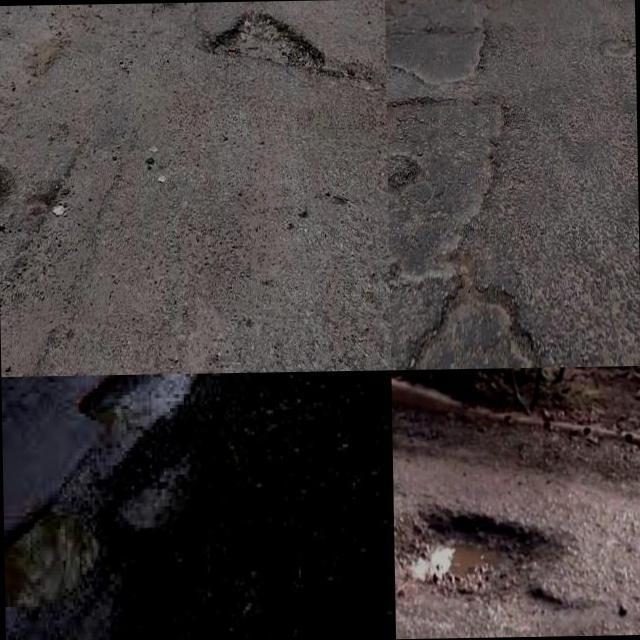Pothole: (4, 373, 201, 619), (386, 95, 503, 288), (394, 511, 557, 599), (404, 272, 538, 370), (209, 6, 322, 73), (385, 21, 489, 87)
